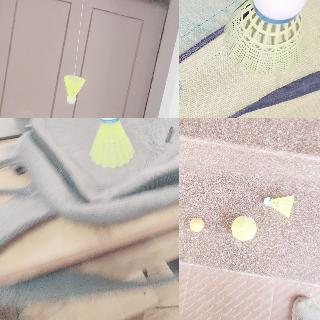shuttlecock: (222, 0, 309, 77), (88, 118, 134, 167), (262, 195, 294, 217), (64, 74, 85, 104)
